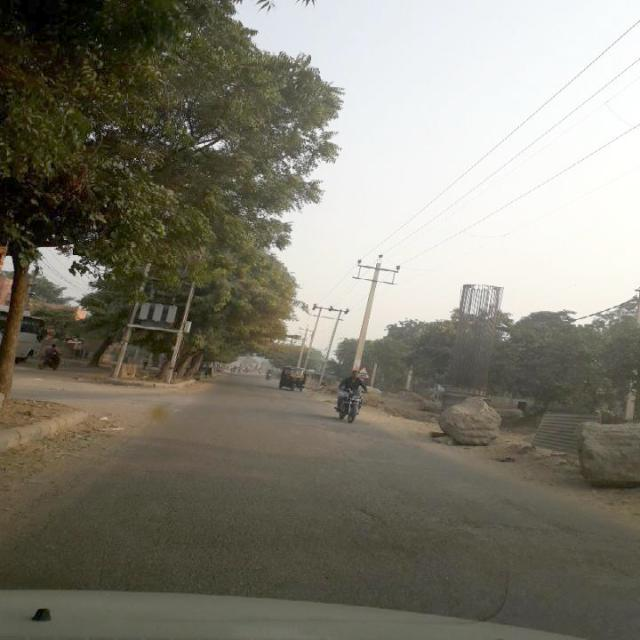pothole: (343, 501, 390, 528)
